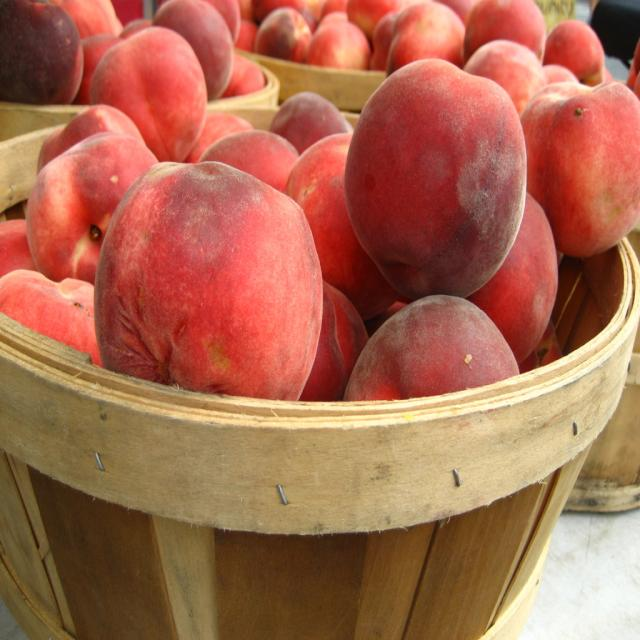Peach: (0, 0, 640, 399), (340, 59, 530, 311)
